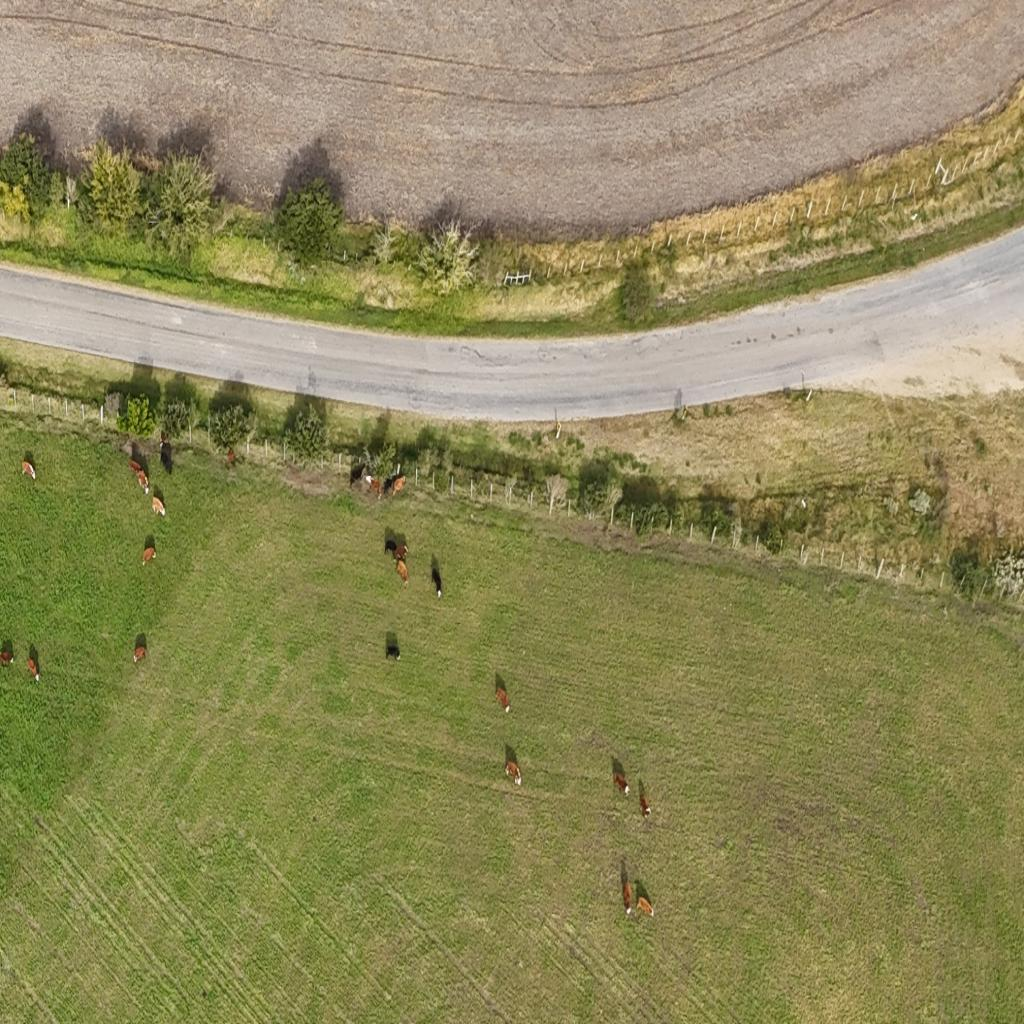cow: (385, 632, 401, 661), (159, 442, 173, 475), (623, 880, 635, 915), (613, 772, 629, 798), (504, 761, 521, 785), (495, 687, 511, 712), (636, 896, 654, 918), (349, 464, 365, 488), (431, 566, 442, 598), (396, 558, 408, 586), (151, 492, 165, 516), (391, 475, 406, 497), (21, 459, 36, 481), (28, 656, 40, 683), (127, 456, 144, 474), (135, 470, 148, 492), (367, 478, 381, 498), (394, 544, 408, 564), (133, 644, 147, 664), (640, 795, 652, 818), (142, 546, 155, 565), (0, 650, 14, 666), (384, 539, 396, 557), (227, 447, 235, 467), (160, 430, 168, 446)
